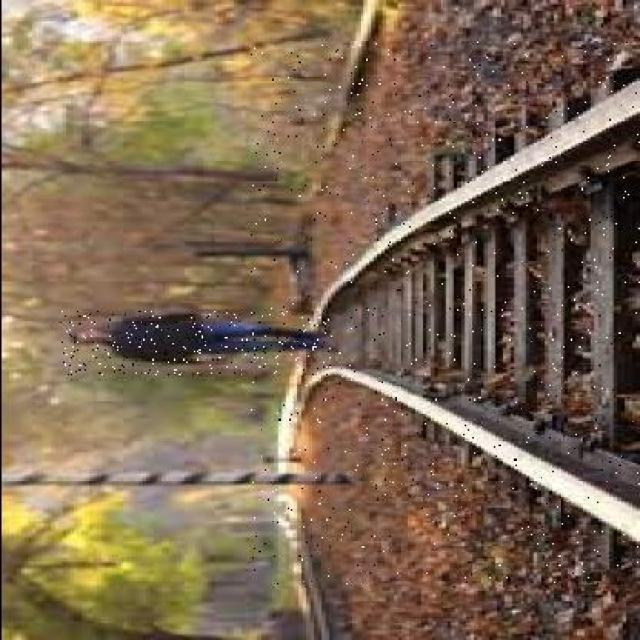rail: (251, 41, 639, 588)
